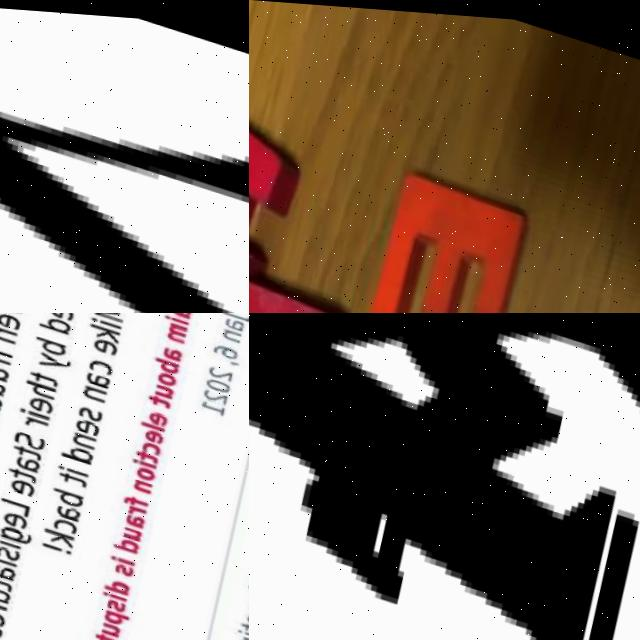0: (201, 368, 229, 386)
1: (195, 390, 226, 409)
2: (199, 379, 226, 396), (205, 356, 231, 373)
6: (209, 333, 237, 352)
A: (249, 313, 640, 640), (249, 99, 294, 305)
E: (355, 158, 534, 313)
M: (0, 26, 249, 313)
